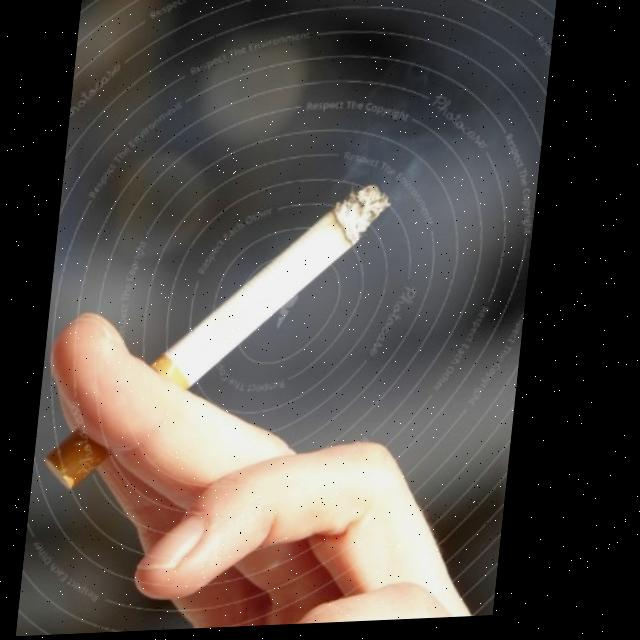cigarette: (49, 188, 399, 493)
